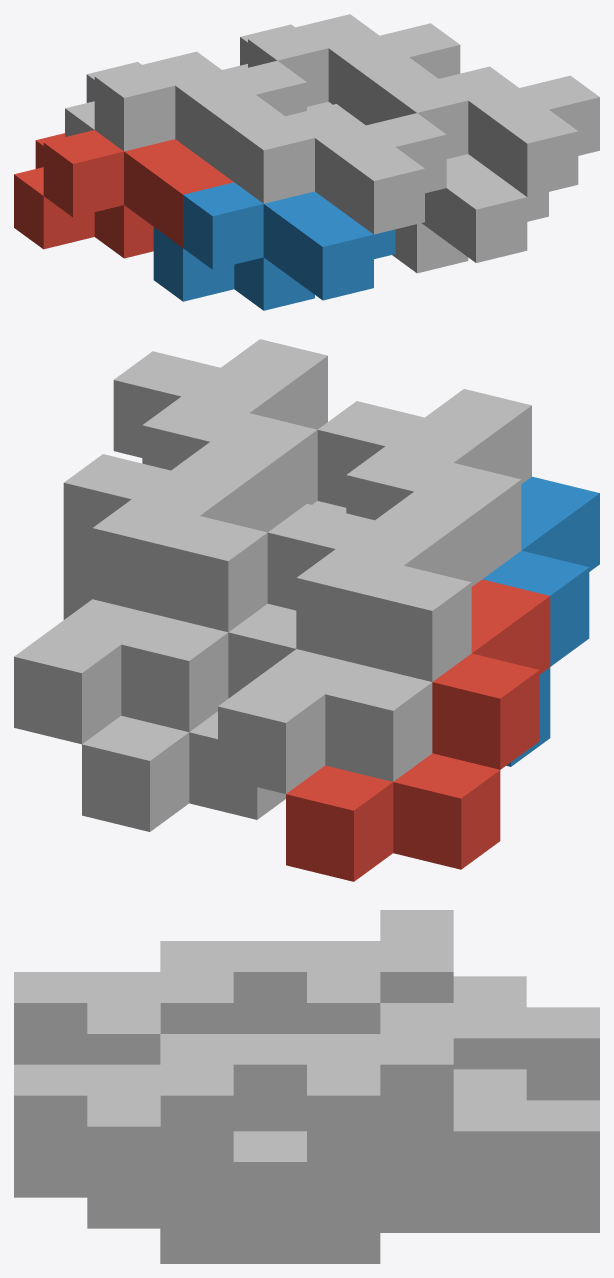
Rendered from tiling.obj.
The picture shows the model from 3 angles, top to bottom: view 1: azimuth 30°, elevation 25°; view 2: azimuth 150°, elevation 25°; view 3: azimuth 270°, elevation 25°; orthographic projection. The views are drawn at different scales.
Visible parts, largest first — view 1: copy_1_domain_2, copy_1_domain_4, copy_1_domain_1, copy_1_domain_3, copy_1_domain_8, copy_1_domain_7, copy_1_domain_6; view 2: copy_1_domain_3, copy_1_domain_7, copy_1_domain_1, copy_1_domain_8, copy_1_domain_4, copy_1_domain_5, copy_1_domain_2; view 3: copy_1_domain_7, copy_1_domain_8, copy_1_domain_3, copy_1_domain_4, copy_1_domain_6, copy_1_domain_5.
Boxes of the visible parts, bbox=[...] form: copy_1_domain_2: bbox=[153, 182, 395, 310]; copy_1_domain_4: bbox=[234, 104, 446, 234]; copy_1_domain_1: bbox=[14, 130, 233, 258]; copy_1_domain_3: bbox=[65, 51, 306, 181]; copy_1_domain_8: bbox=[387, 66, 599, 196]; copy_1_domain_7: bbox=[222, 14, 460, 125]; copy_1_domain_6: bbox=[392, 154, 548, 273]; copy_1_domain_3: bbox=[218, 491, 482, 793]; copy_1_domain_7: bbox=[14, 442, 278, 744]; copy_1_domain_1: bbox=[286, 579, 550, 881]; copy_1_domain_8: bbox=[63, 339, 327, 619]; copy_1_domain_4: bbox=[317, 389, 531, 578]; copy_1_domain_5: bbox=[82, 604, 296, 831]; copy_1_domain_2: bbox=[482, 476, 599, 766]; copy_1_domain_7: bbox=[233, 1003, 599, 1197]; copy_1_domain_8: bbox=[14, 1034, 380, 1228]; copy_1_domain_3: bbox=[233, 910, 599, 1100]; copy_1_domain_4: bbox=[14, 941, 233, 1064]; copy_1_domain_6: bbox=[14, 1162, 380, 1263]; copy_1_domain_5: bbox=[380, 1197, 599, 1232].
Size of the model in its own units: 8 by 3 by 8.
